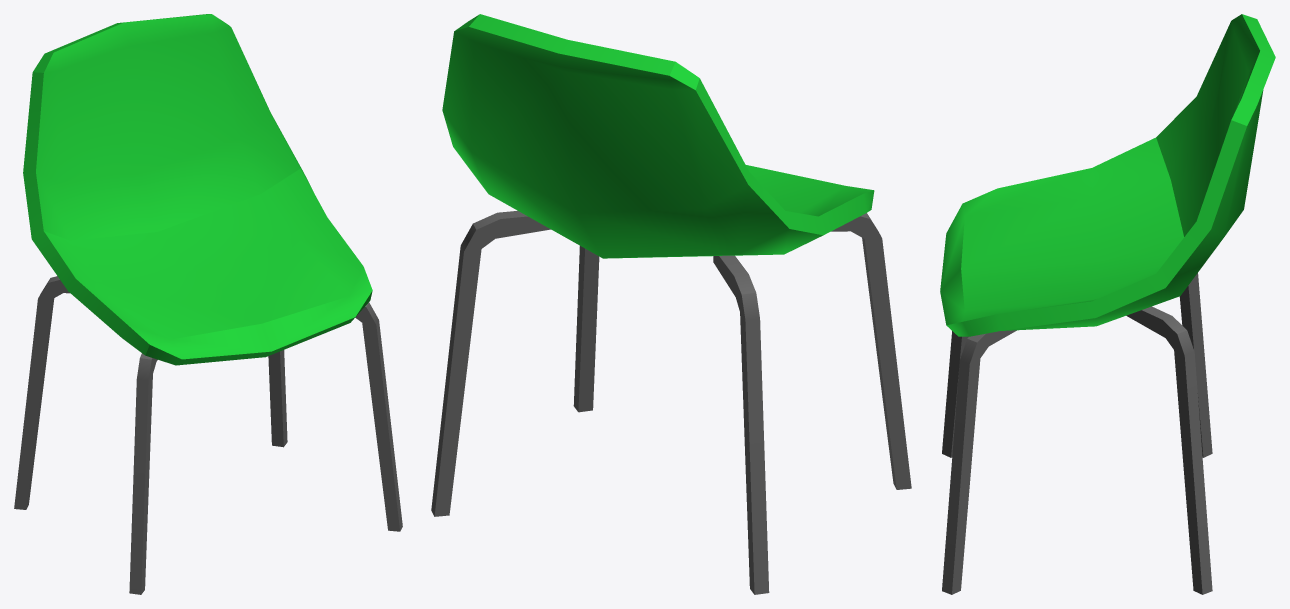
Rendered from Silla02.fbx.
3 renders of one model, left to right at view 1: azimuth 30°, elevation 25°; view 2: azimuth 150°, elevation 25°; view 3: azimuth 270°, elevation 25°, orthographic. The views are drawn at different scales.
Parts seen in each view (by area): view 1: Silla02; view 2: Silla02; view 3: Silla02.
Part boxes in pixels (bbox=[...]): Silla02: bbox=[14, 14, 402, 594]; Silla02: bbox=[431, 14, 911, 594]; Silla02: bbox=[940, 14, 1275, 594].
Bounding box in the file's own units: 0.3821 × 0.5791 × 0.3737.
